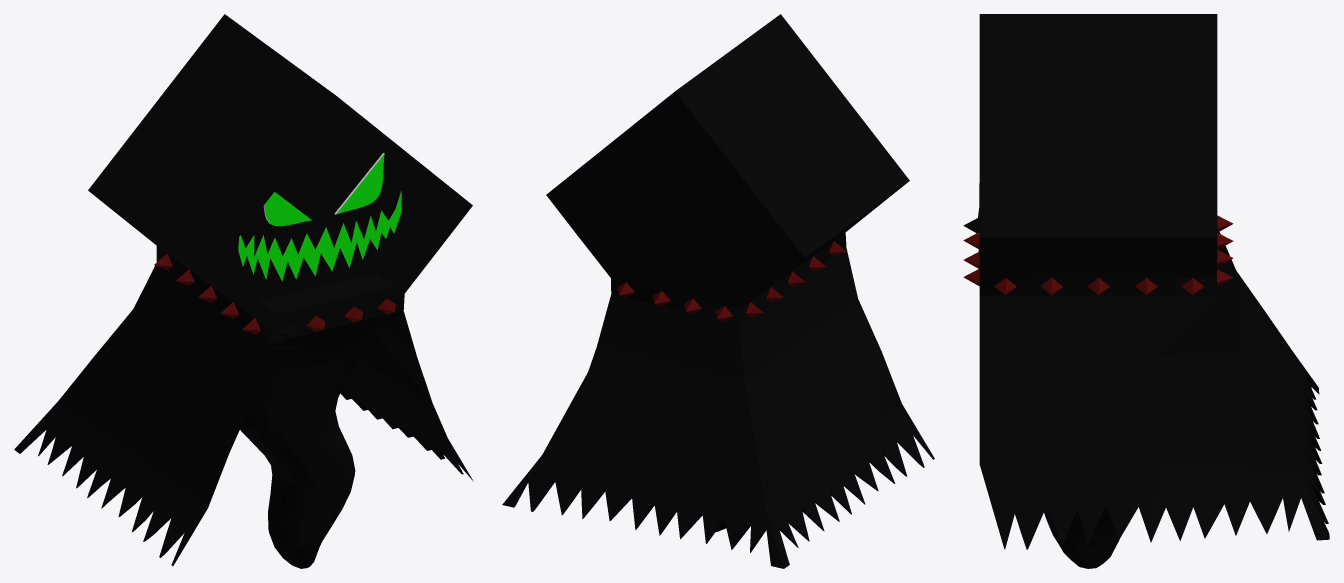
File: ghost2.fbx
The picture shows the model from 3 angles, left to right: view 1: azimuth 30°, elevation 25°; view 2: azimuth 150°, elevation 25°; view 3: azimuth 270°, elevation 25°; orthographic projection. The views are drawn at different scales.
Visible parts, largest first — view 1: Box002; view 2: Box002; view 3: Box002.
Part boxes in pixels (bbox=[...]): Box002: bbox=[14, 14, 473, 568]; Box002: bbox=[502, 14, 934, 568]; Box002: bbox=[963, 14, 1329, 568].
Bounding box in the file's own units: 69.45 × 109 × 66.13.
